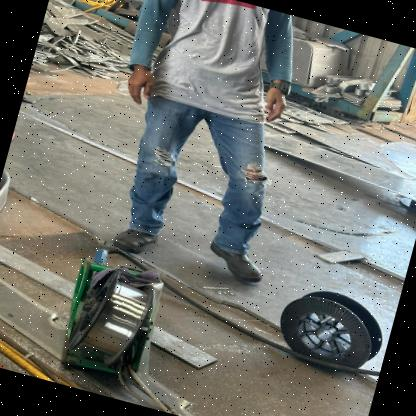bota: (197, 229, 278, 293), (107, 213, 164, 262)
